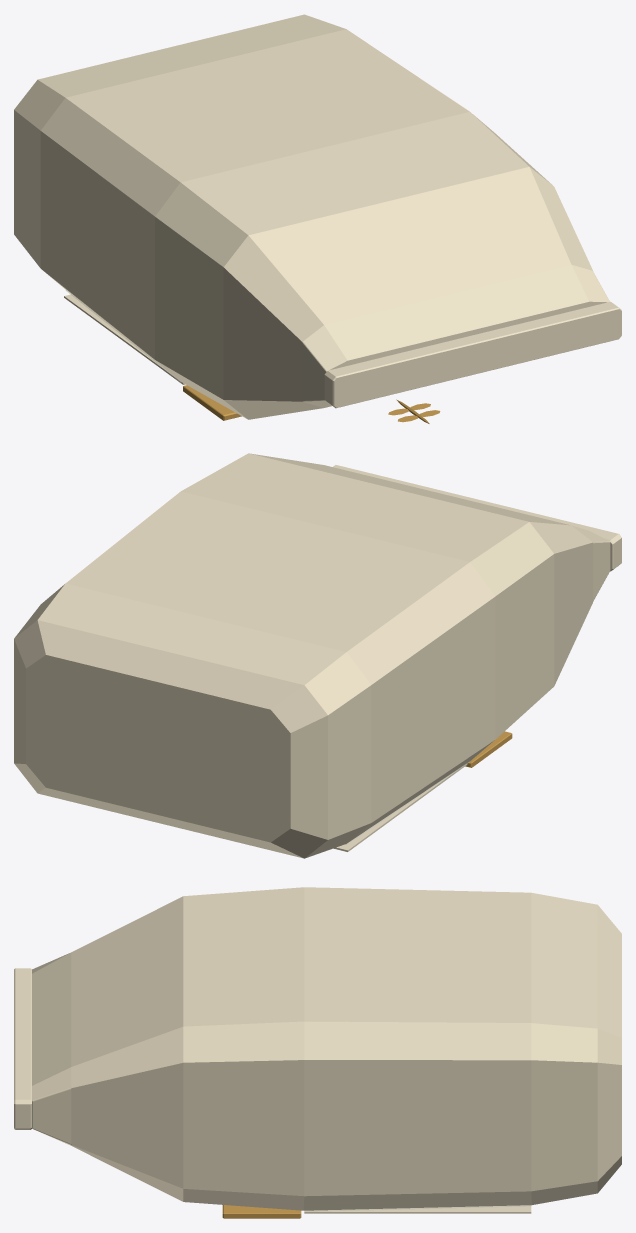
File: millet.glb
The picture shows the model from 3 angles, top to bottom: view 1: azimuth 30°, elevation 25°; view 2: azimuth 150°, elevation 25°; view 3: azimuth 270°, elevation 25°; orthographic projection. The views are drawn at different scales.
Visible parts, largest first — view 1: millet; view 2: millet; view 3: millet.
Part boxes in pixels (left/top/right/bottom): millet: left=14, top=14, right=621, bottom=423; millet: left=14, top=453, right=621, bottom=858; millet: left=14, top=887, right=621, bottom=1218.
Bounding box in the file's own units: 0.1236 × 0.0721 × 0.201.
